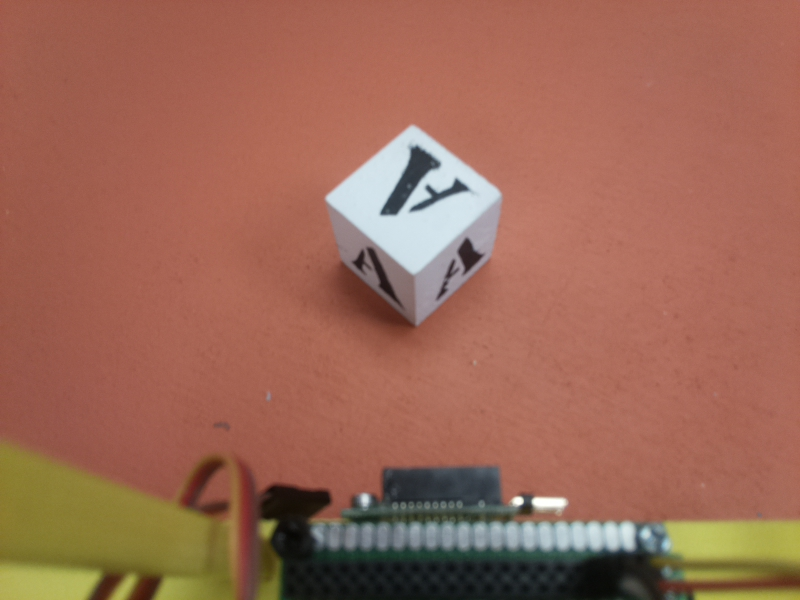blockA: (317, 125, 500, 327)
